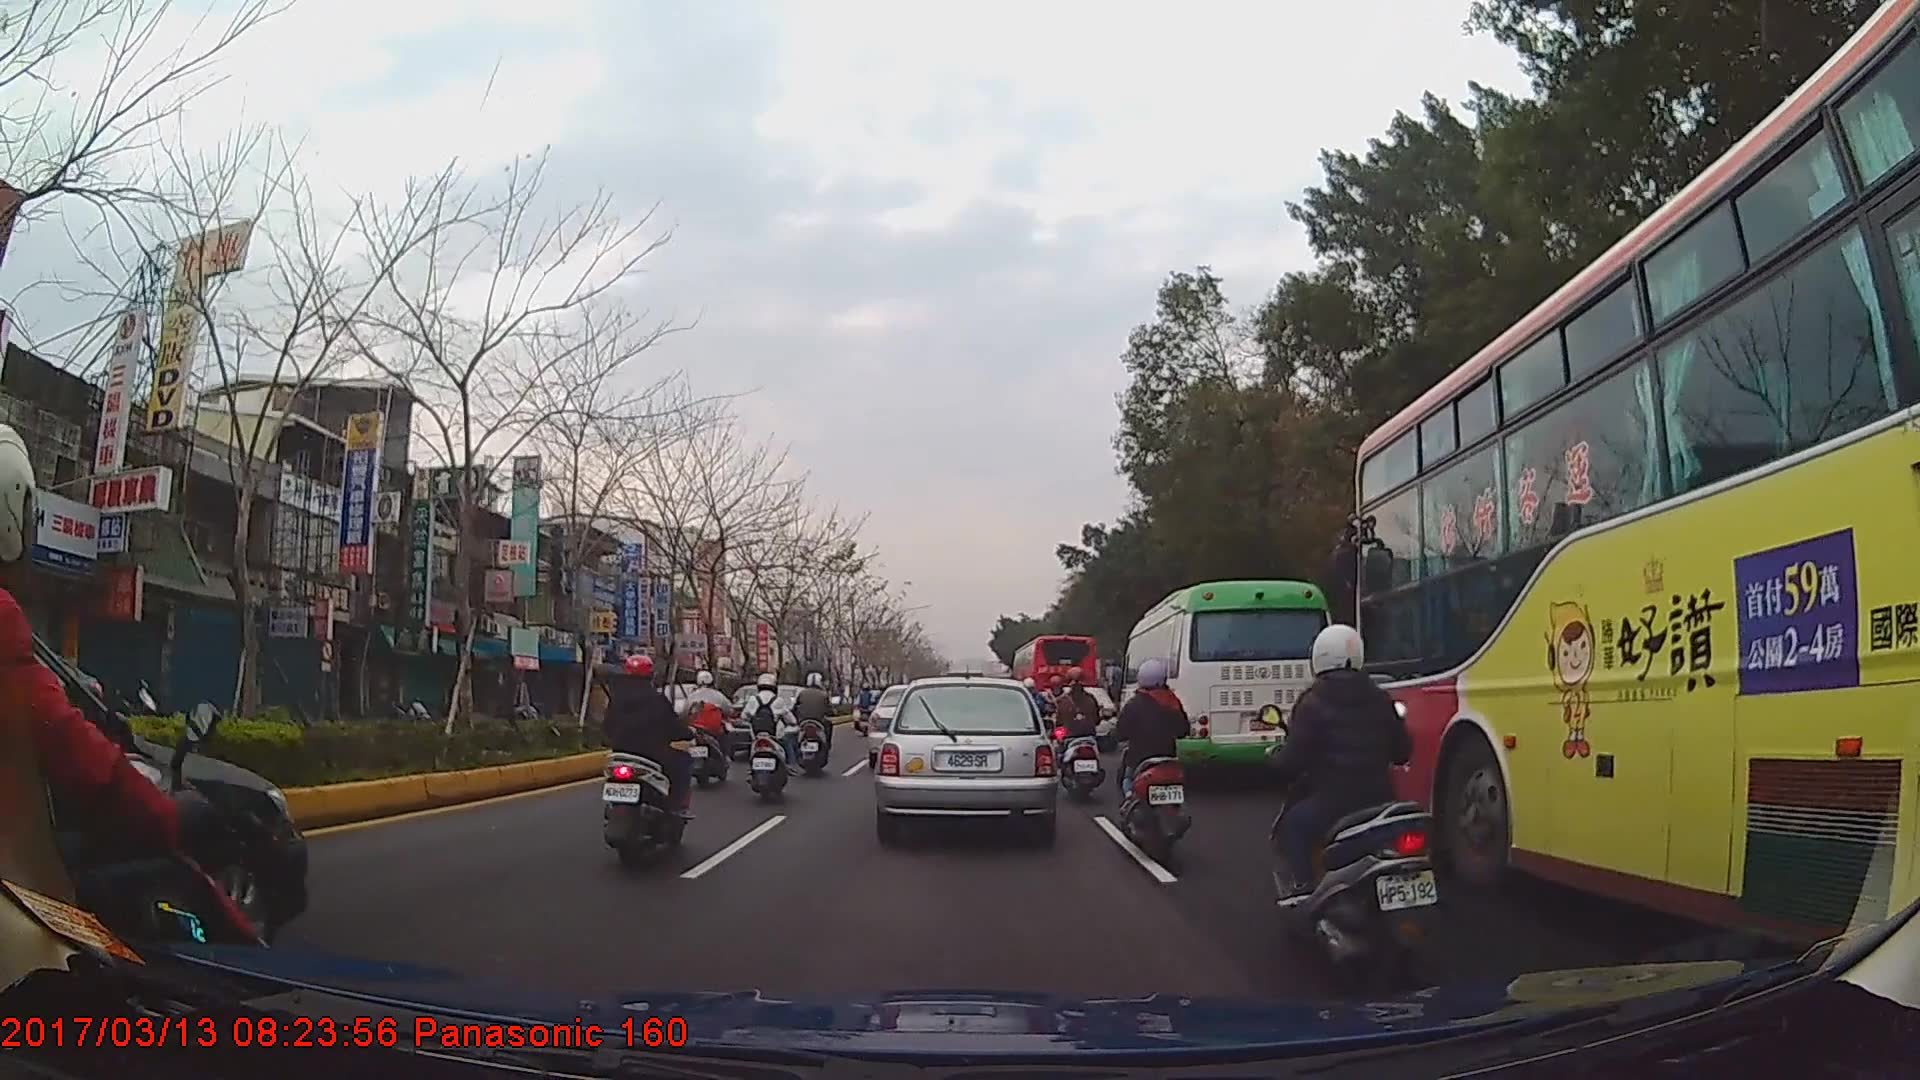rider: (1, 422, 270, 1074), (1268, 620, 1441, 981), (603, 653, 696, 868), (1112, 656, 1200, 867), (744, 673, 797, 801), (682, 668, 737, 789), (1053, 665, 1102, 792), (795, 671, 837, 775), (857, 682, 879, 721)
vehicle: (1352, 0, 1920, 1001), (0, 600, 307, 965), (1118, 578, 1340, 784), (878, 675, 1053, 839), (1013, 629, 1100, 733)
